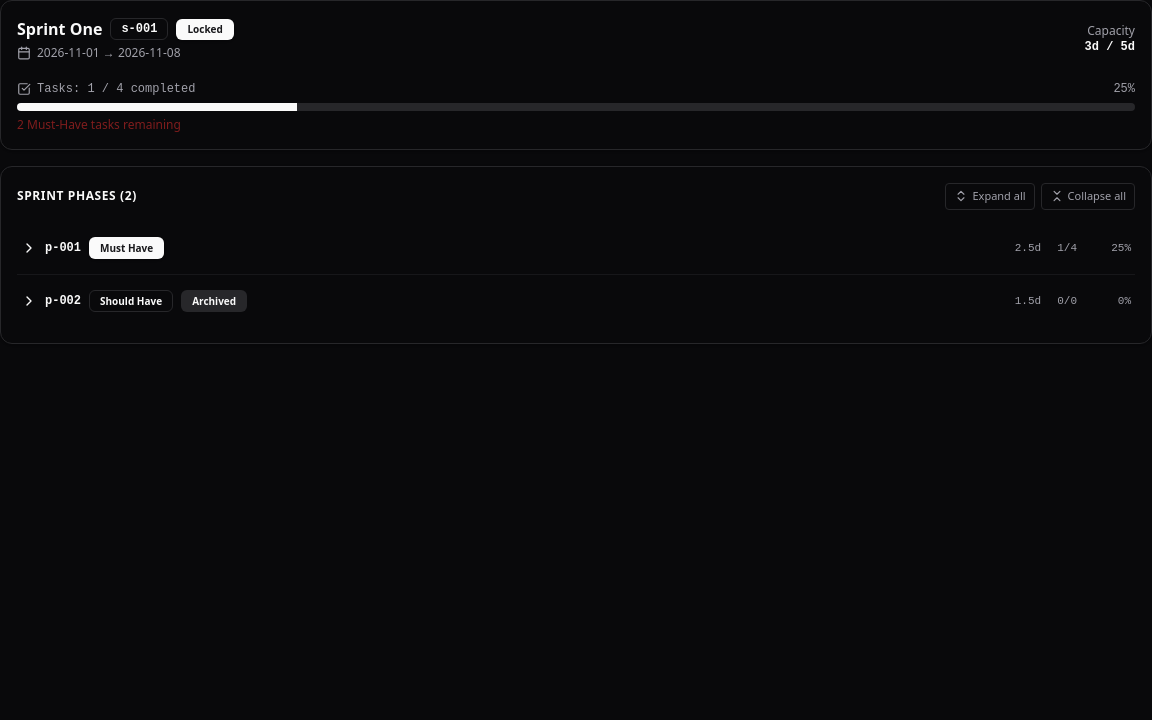
SprintProgressPanel drill-down › renders unassigned, stale, status mismatch warning, no task files, and escapes script title
Step 1. Click the button "Expand all" → (990, 196), box [946, 183, 1035, 210]
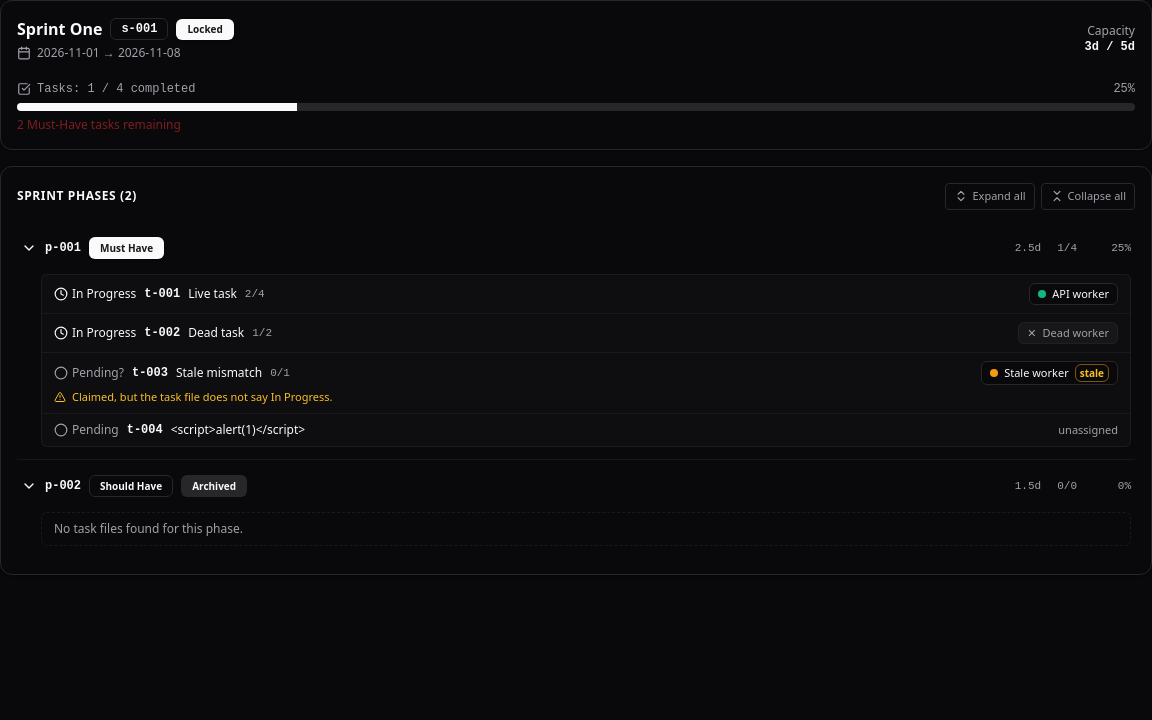
Expected: the text "unassigned" is shown, [1058, 422, 1118, 438]
Expected: the text "stale" is shown, [1075, 364, 1109, 382]
Expected: the text "Claimed, but the task file does not say In Progress." is shown, [72, 388, 332, 404]
